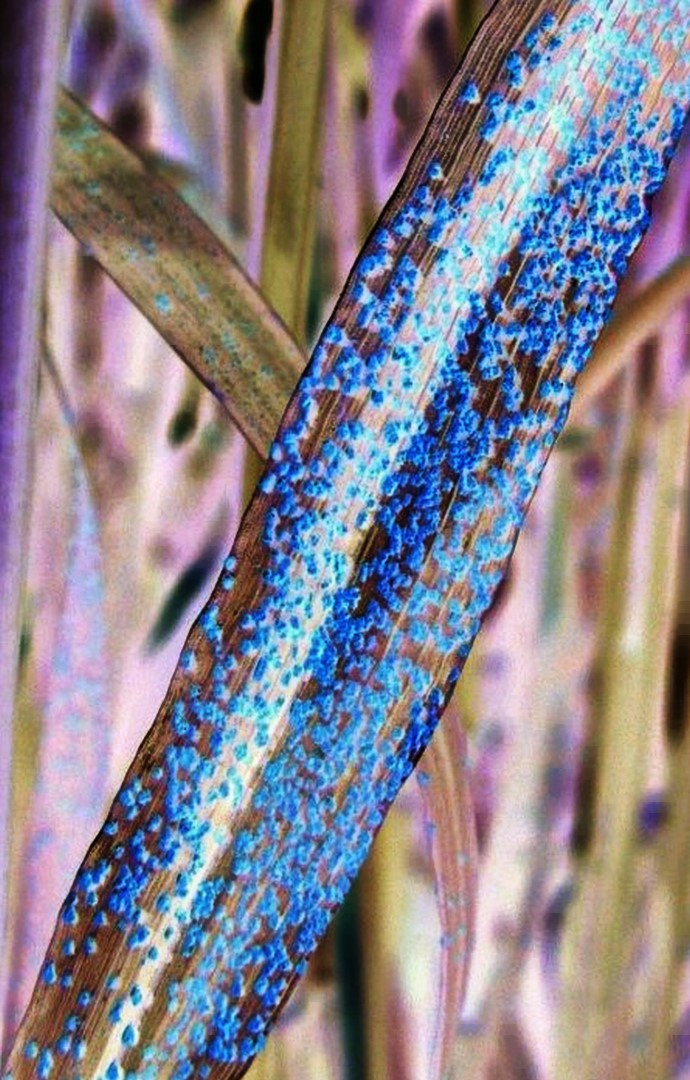Leaf Rust: (107, 272, 613, 967)
